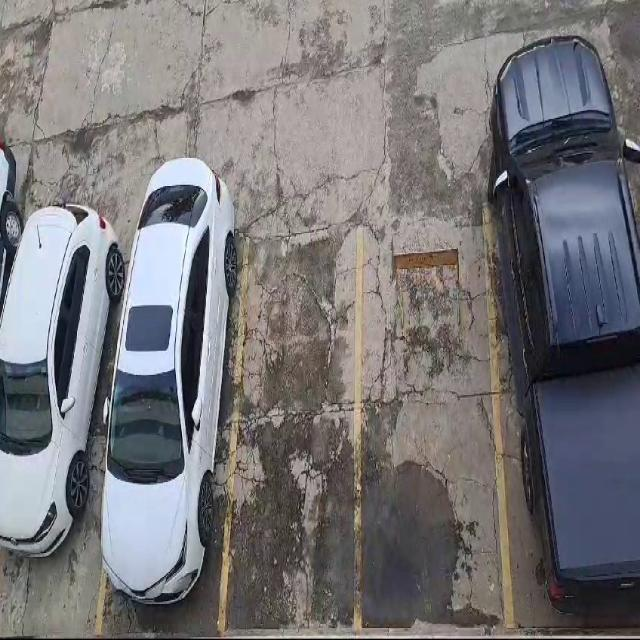empty: (359, 213, 509, 629), (220, 233, 360, 627)
notEmpty: (488, 186, 639, 621), (99, 238, 247, 629), (0, 245, 141, 633)
